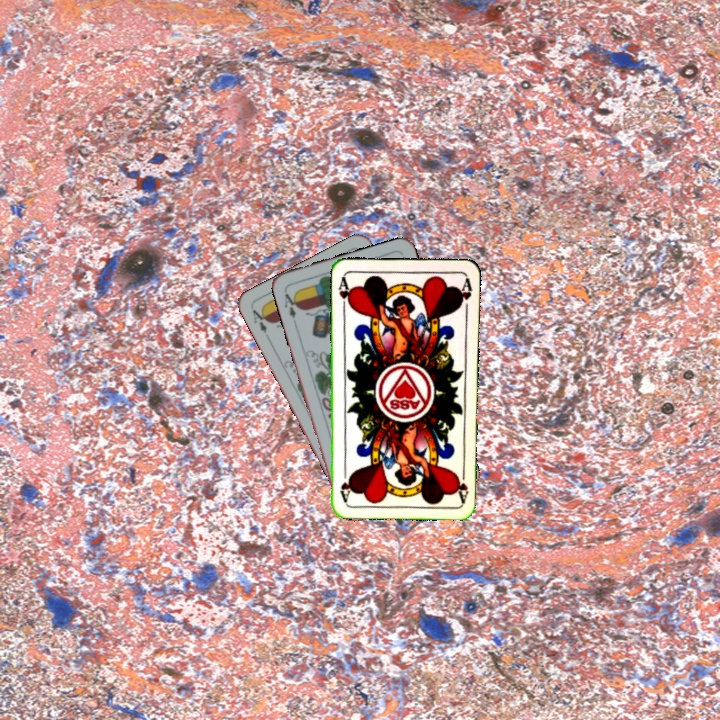EA: (280, 286, 302, 321), (248, 305, 271, 336)
HA: (334, 273, 354, 314), (452, 463, 471, 504)
